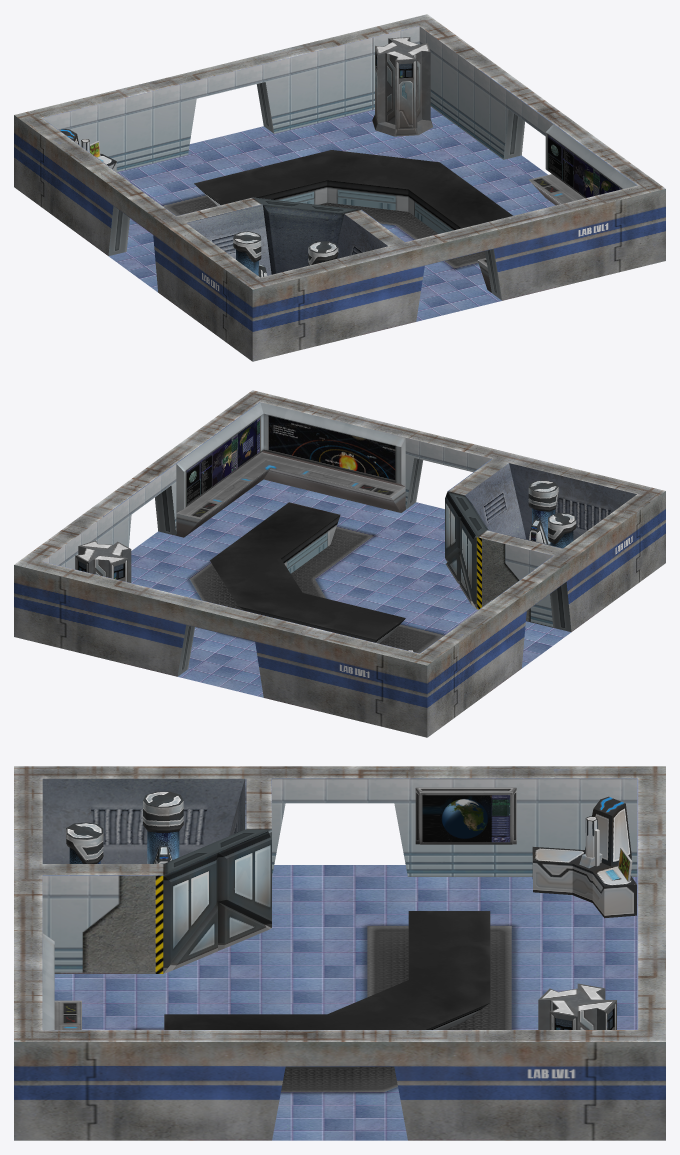
File: Research_Facility.FBX
3 views of the same model, one above another, from view 1: azimuth 30°, elevation 25°; view 2: azimuth 150°, elevation 25°; view 3: azimuth 270°, elevation 25° (orthographic). The views are drawn at different scales.
Visible parts, largest first — view 1: Walls, Cylinder01, Containmen01, Containmen02, Microscope; view 2: Walls, Cylinder01, Containmen02, Containmen01; view 3: Walls, Microscope, TV, Cylinder01, Containmen01, Containmen02.
Boxes of the visible parts, x1,y1,x2,y2 form: Walls: (14, 14, 665, 361); Cylinder01: (372, 37, 432, 136); Containmen01: (233, 231, 267, 277); Containmen02: (308, 241, 338, 265); Microscope: (60, 129, 116, 171); Walls: (14, 390, 665, 737); Cylinder01: (75, 540, 131, 582); Containmen02: (528, 480, 558, 544); Containmen01: (548, 512, 576, 548); Walls: (14, 766, 665, 1140); Microscope: (532, 796, 636, 918); TV: (415, 787, 516, 844); Cylinder01: (538, 983, 616, 1029); Containmen01: (143, 791, 183, 863); Containmen02: (66, 822, 103, 863).
Bounding box in the file's own units: 2486 × 2486 × 431.
Materials: 5 (5 with a texture image).
